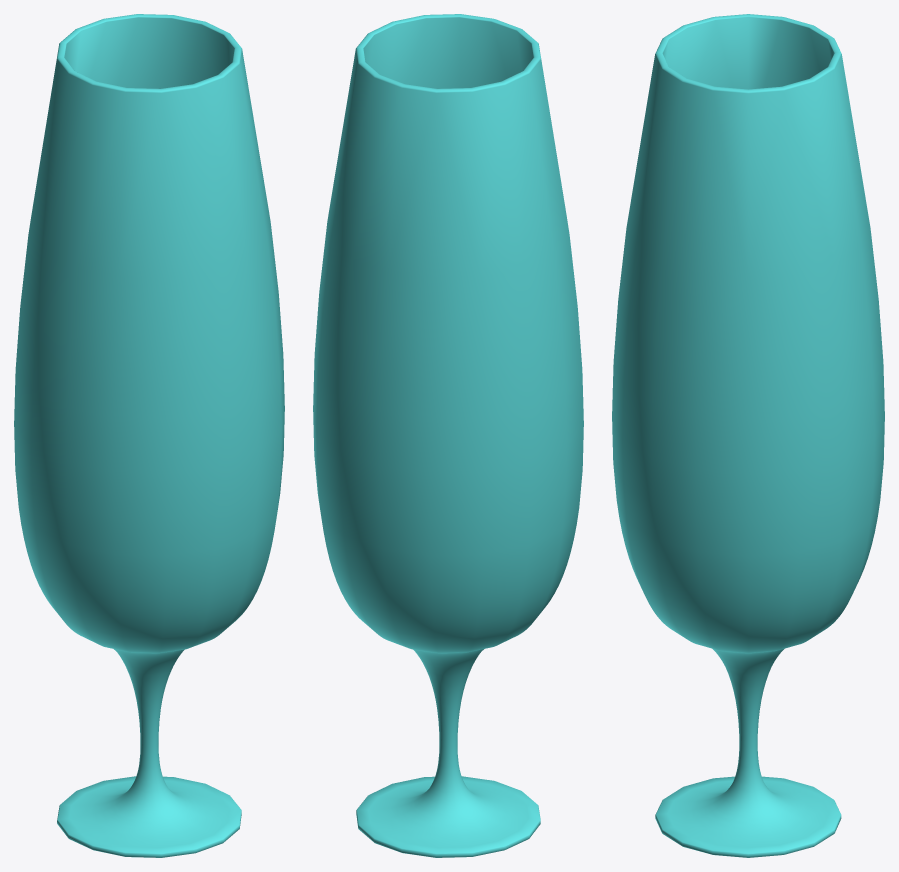
The model's file is DrinkGlass_4.fbx.
3 views of the same model, side by side, from view 1: azimuth 30°, elevation 25°; view 2: azimuth 150°, elevation 25°; view 3: azimuth 270°, elevation 25° (orthographic).
Parts seen in each view (by area): view 1: DrinkGlass 4; view 2: DrinkGlass 4; view 3: DrinkGlass 4.
Part boxes in pixels (x1,y1,x2,y2): DrinkGlass 4: [14, 14, 284, 857]; DrinkGlass 4: [313, 14, 583, 857]; DrinkGlass 4: [612, 14, 884, 857].
Size of the model in its own units: 0.0527 by 0.1633 by 0.0527.
